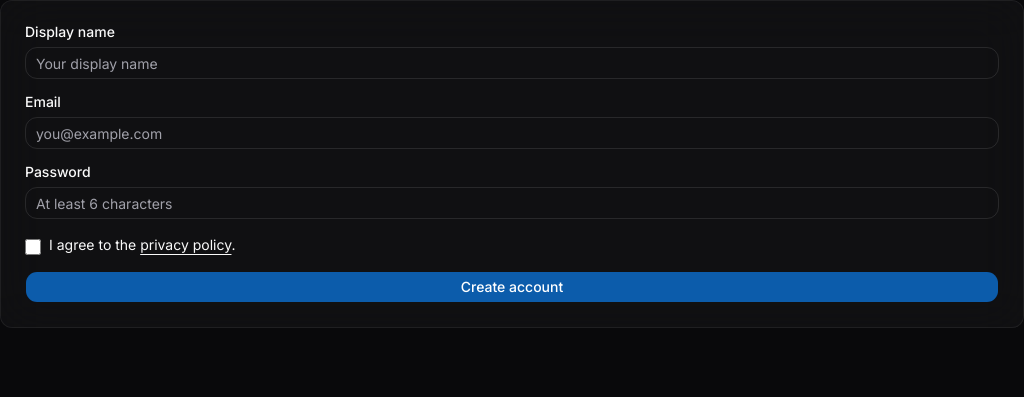
Scenario: RegisterForm › maps duplicate email response to inline email error without clearing fields
Type "Tina" into the field labelled "Display name" at (512, 63), box [25,47,999,79]
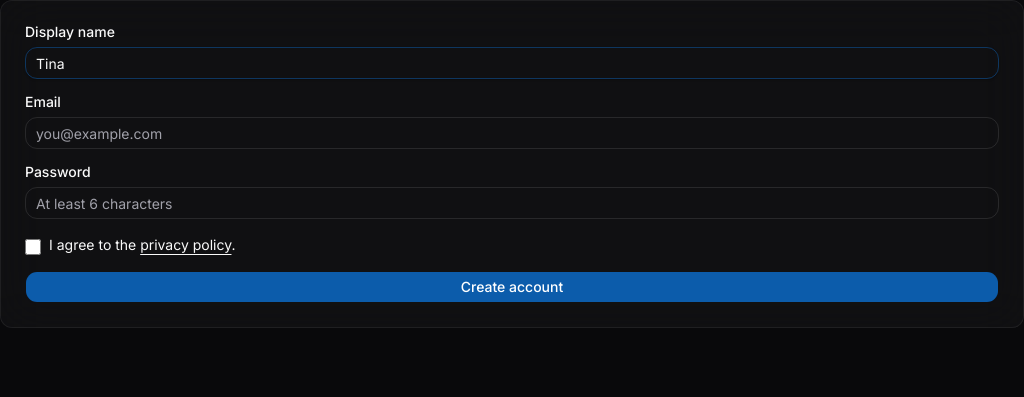
Type "tina@example.com" into the field labelled "Email" at (512, 133), box [25,117,999,149]
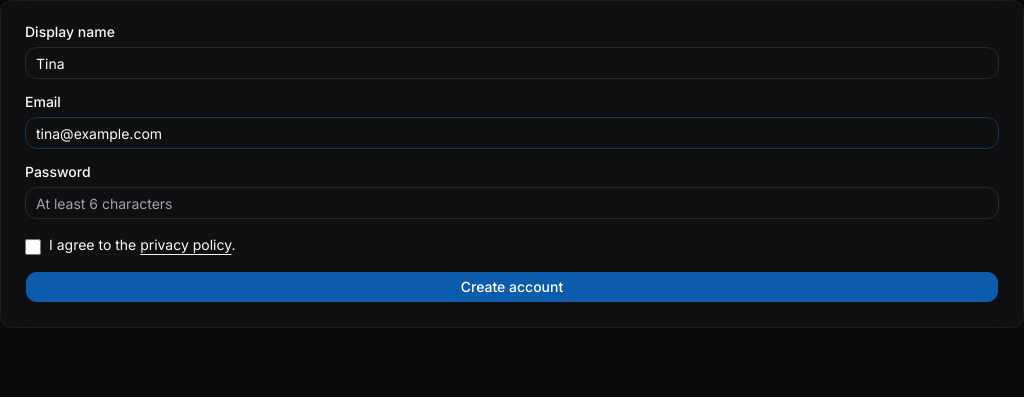
Type "12345678" into the password field labelled "Password" at (512, 203), box [25,187,999,219]
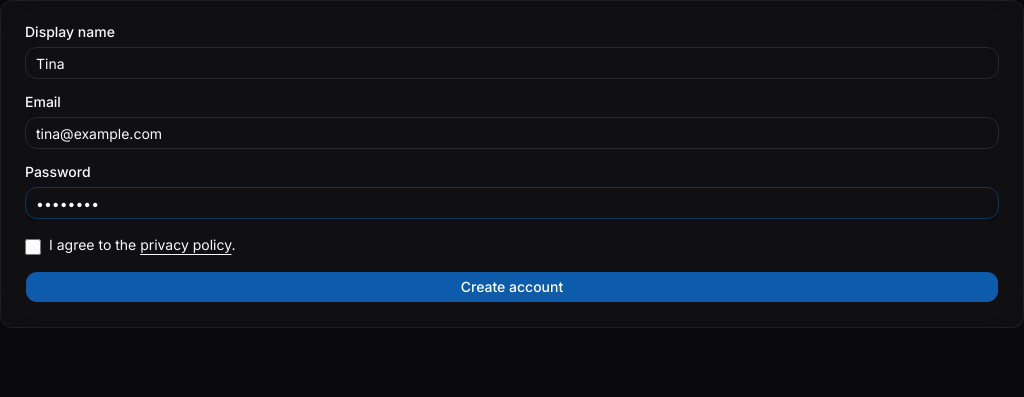
Click the checkbox at (33, 247), box [25,239,41,255]
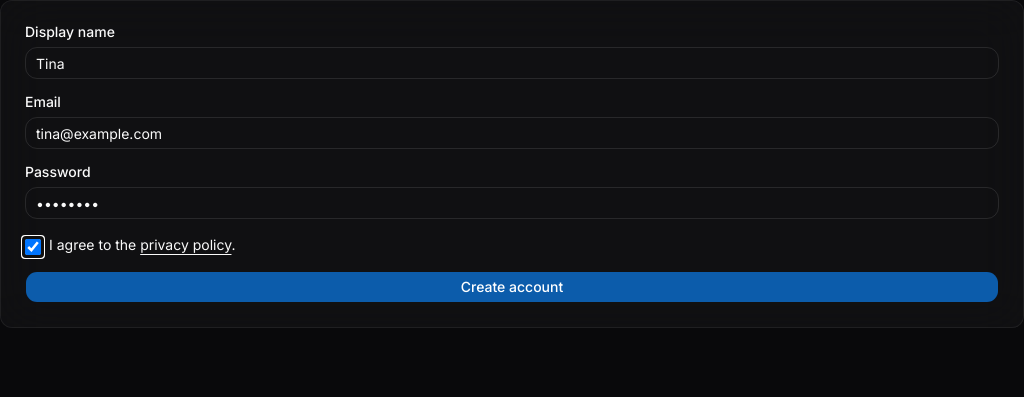
Click the button "Create account" at (512, 287), box [25,271,999,303]
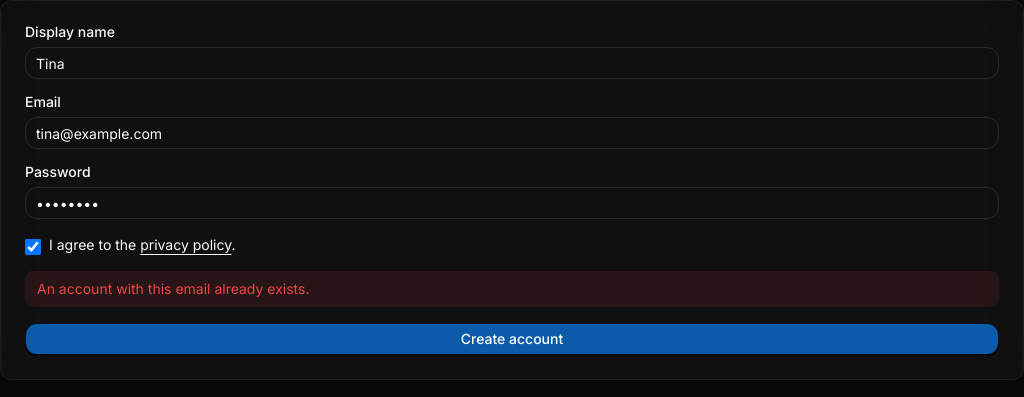
Now the text "An account with this email already exists." is shown, box [25,271,999,307]
